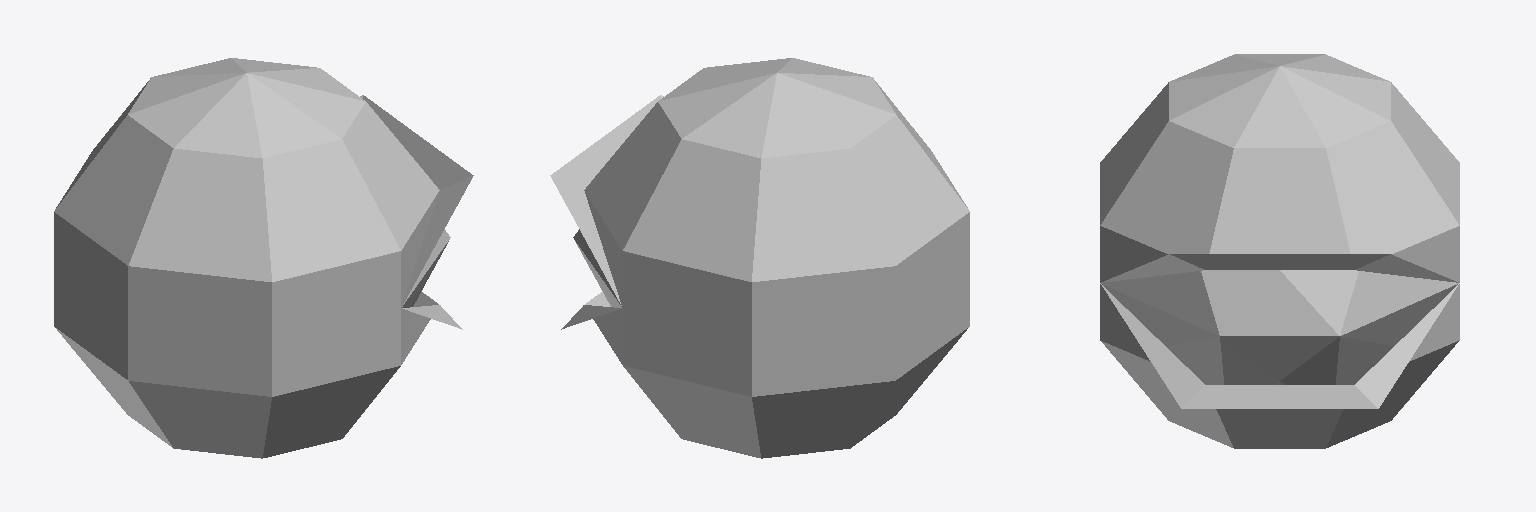
The model's file is eye.obj.
3 views of the same model, side by side, from view 1: azimuth 30°, elevation 25°; view 2: azimuth 150°, elevation 25°; view 3: azimuth 270°, elevation 25° (orthographic).
Visible parts, largest first — view 1: Sphere_Material.001; view 2: Sphere_Material.001; view 3: Sphere_Material.001.
Part boxes in pixels (bbox=[...]): Sphere_Material.001: bbox=[54, 58, 473, 458]; Sphere_Material.001: bbox=[550, 58, 969, 458]; Sphere_Material.001: bbox=[1100, 54, 1459, 448].
Size of the model in its own units: 1.86 by 2 by 1.76.